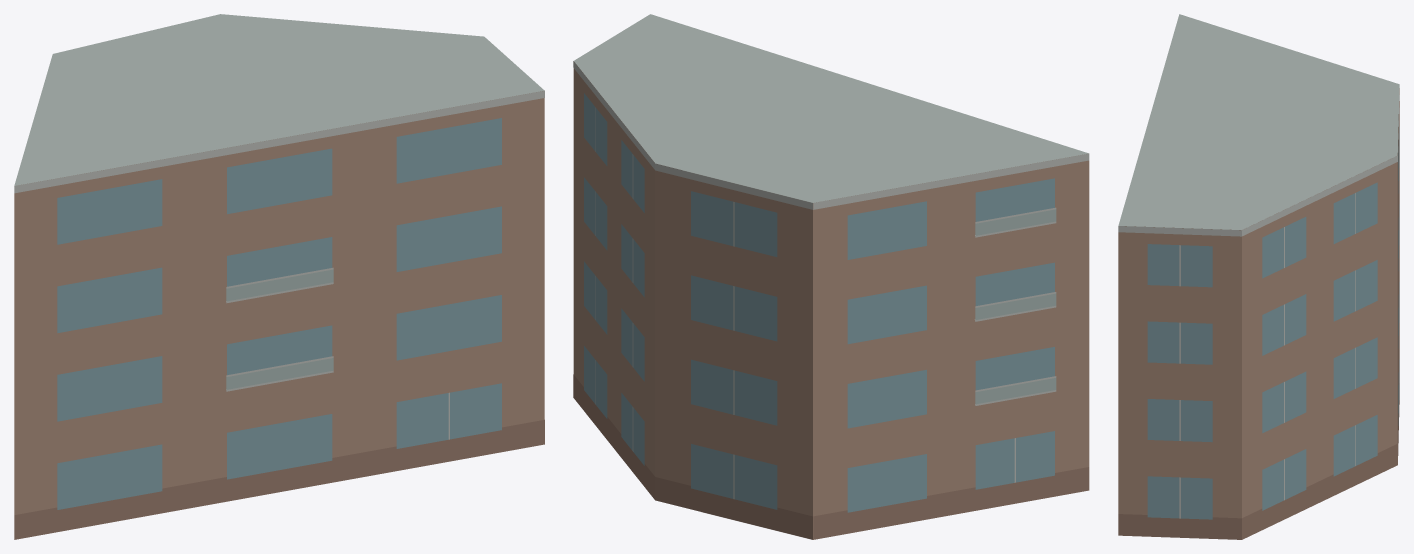
The model's file is survey-upis-32567622.glb.
3 views of the same model, side by side, from view 1: azimuth 30°, elevation 25°; view 2: azimuth 150°, elevation 25°; view 3: azimuth 270°, elevation 25° (orthographic). The views are drawn at different scales.
Parts seen in each view (by area): view 1: survey-upis-32567622.tmp; view 2: survey-upis-32567622.tmp; view 3: survey-upis-32567622.tmp.
Part boxes in pixels (x1,y1,x2,y2): survey-upis-32567622.tmp: [14, 14, 544, 539]; survey-upis-32567622.tmp: [573, 14, 1089, 539]; survey-upis-32567622.tmp: [1118, 14, 1399, 539].
Bounding box in the file's own units: 17.67 × 11.8 × 9.72.
